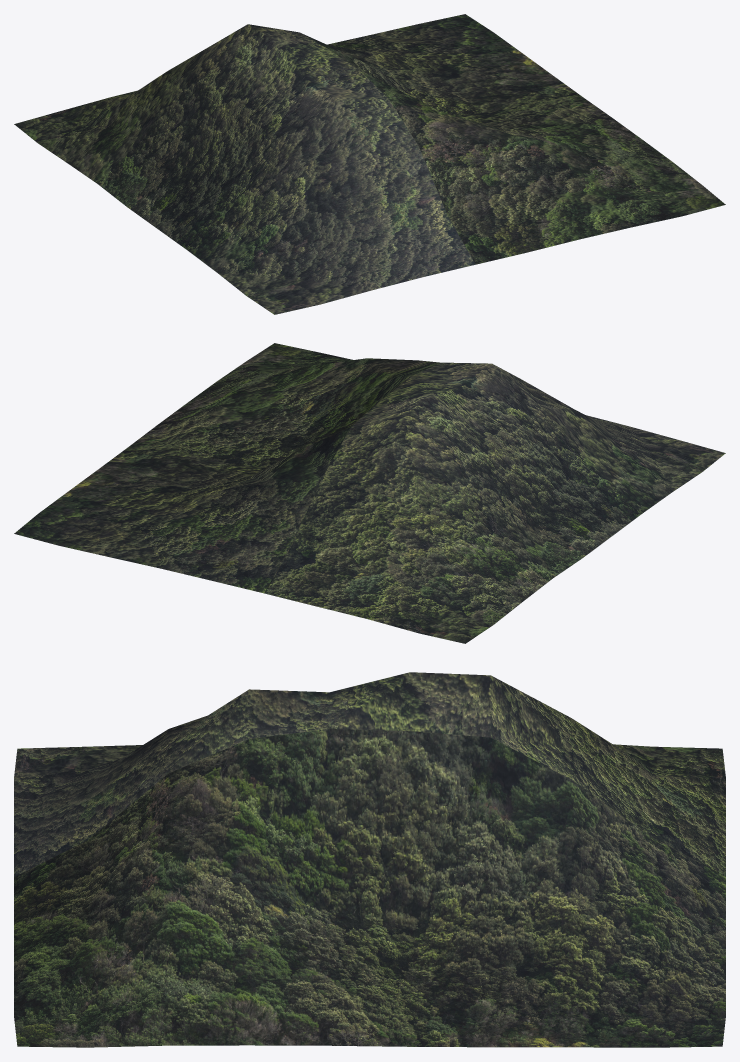
File: pico6.glb
3 renders of one model, top to bottom at view 1: azimuth 30°, elevation 25°; view 2: azimuth 150°, elevation 25°; view 3: azimuth 270°, elevation 25°, orthographic. The views are drawn at different scales.
Parts seen in each view (by area): view 1: Landscape; view 2: Landscape; view 3: Landscape.
Part boxes in pixels (x1,y1,x2,y2): Landscape: (14,14,725,314); Landscape: (14,343,725,643); Landscape: (14,672,725,1047).
Size of the model in its own units: 1.96 by 0.5303 by 1.96.
Materials: 1 (1 with a texture image).
